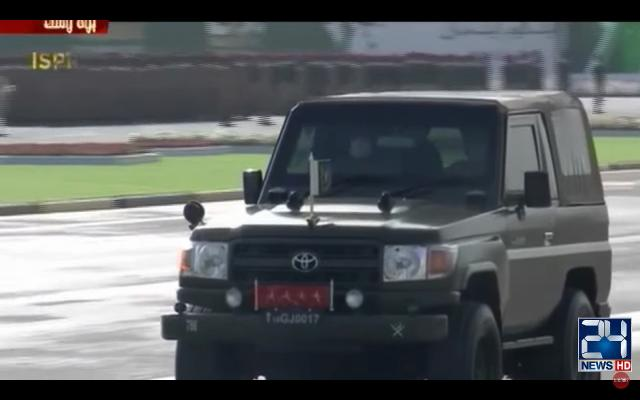plate: (262, 307, 326, 327)
